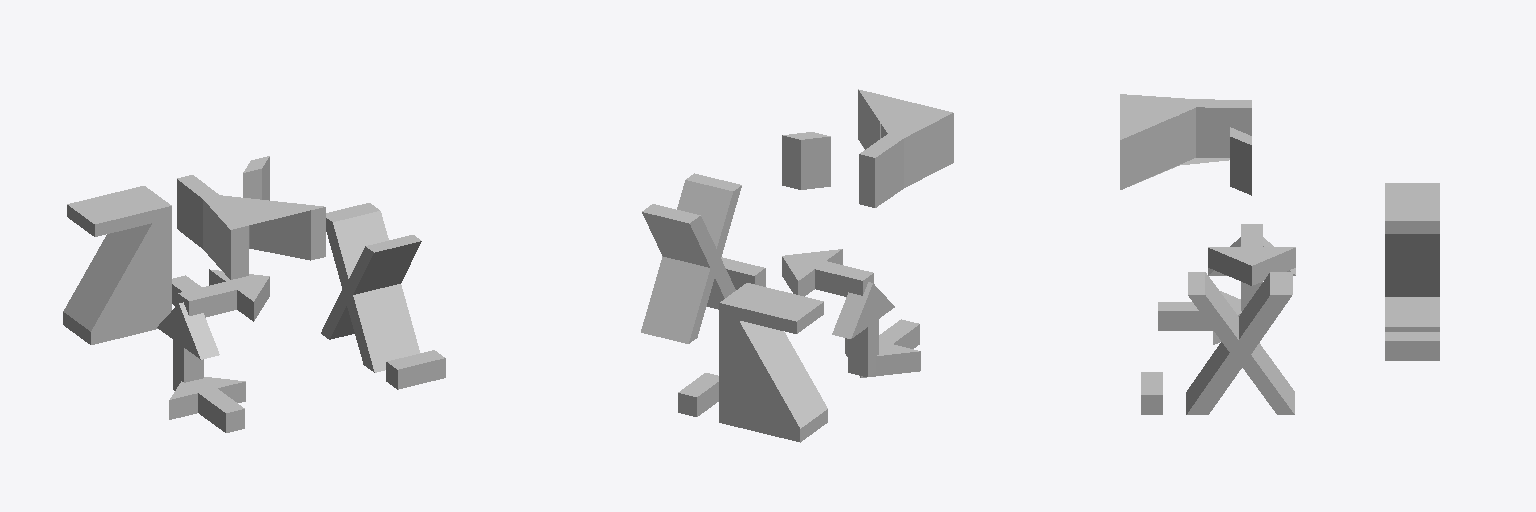
Rendered from maya_axes_anim_lefthanded_0.obj.
The picture shows the model from 3 angles: view 1: azimuth 30°, elevation 25°; view 2: azimuth 150°, elevation 25°; view 3: azimuth 270°, elevation 25°; orthographic projection.
Parts seen in each view (by area): view 1: Z, X, Y, ArrowZ, ArrowZ ArrowY ArrowX, ArrowZ ArrowY; view 2: Z, X, Y, ArrowZ ArrowY, ArrowZ ArrowY ArrowX, ArrowZ; view 3: Y, X, Z, ArrowZ ArrowY ArrowX, ArrowZ, ArrowZ ArrowY.
Part boxes in pixels (x1,y1,x2,y2): Z: (63,186,201,344); X: (321,203,445,389); Y: (177,156,325,279); ArrowZ: (169,377,245,432); ArrowZ ArrowY ArrowX: (178,269,269,321); ArrowZ ArrowY: (157,302,219,390); Z: (678,283,827,442); X: (641,173,765,343); Y: (782,89,953,207); ArrowZ ArrowY: (832,282,894,376); ArrowZ ArrowY ArrowX: (782,249,873,296); ArrowZ: (845,319,920,377); Y: (1120,94,1251,195); X: (1141,272,1294,414); Z: (1385,183,1439,360); ArrowZ ArrowY ArrowX: (1208,224,1295,285); ArrowZ: (1158,291,1241,344); ArrowZ ArrowY: (1208,237,1295,310).
Bounding box in the file's own units: 12.5 × 11 × 14.47.